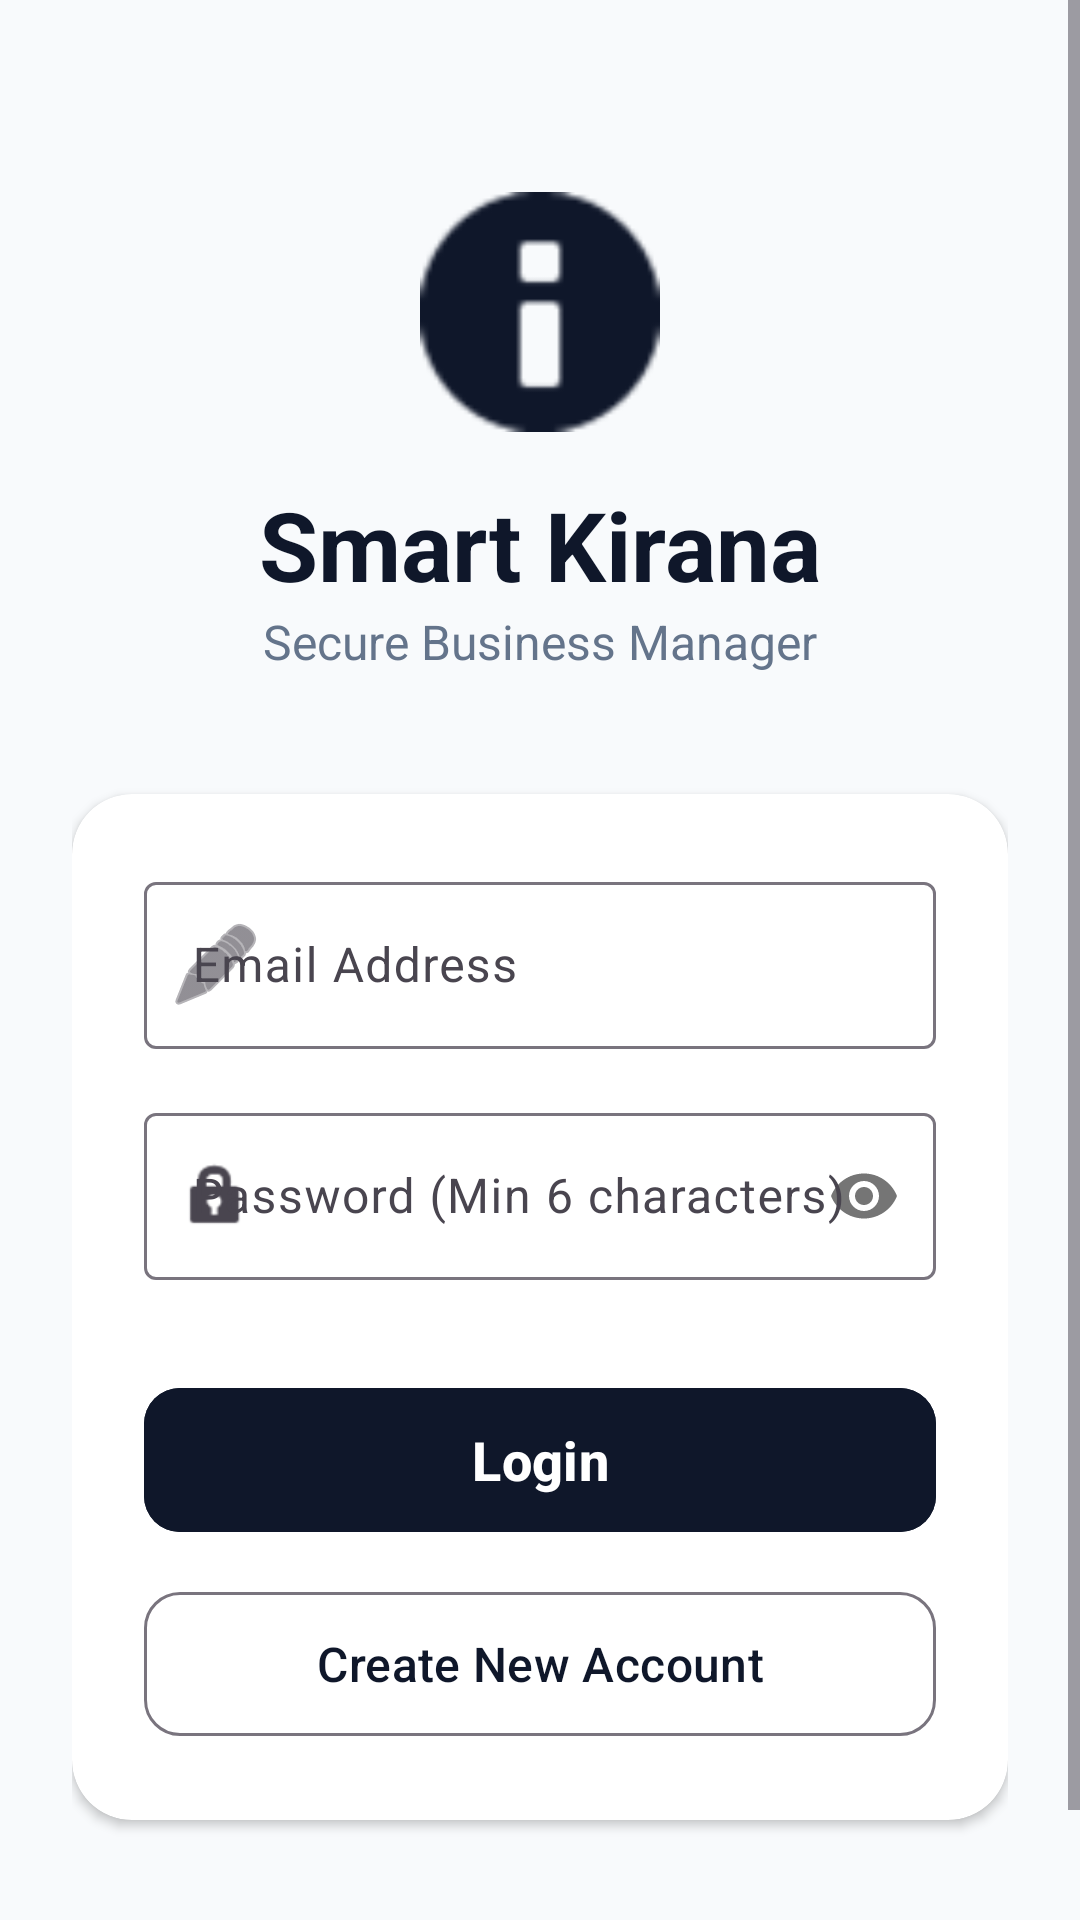

Locate icon controls on the screen. Image size 1080×1920, boxes as [x1, y1, x2, y2].
info: [420, 192, 660, 432]
